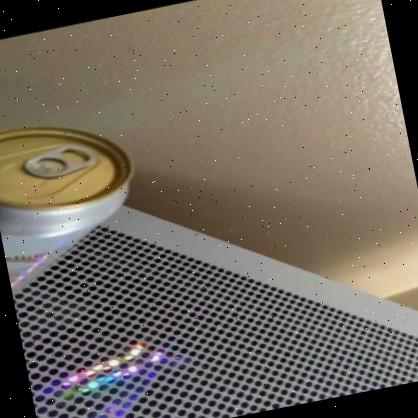can: (0, 109, 154, 298)
